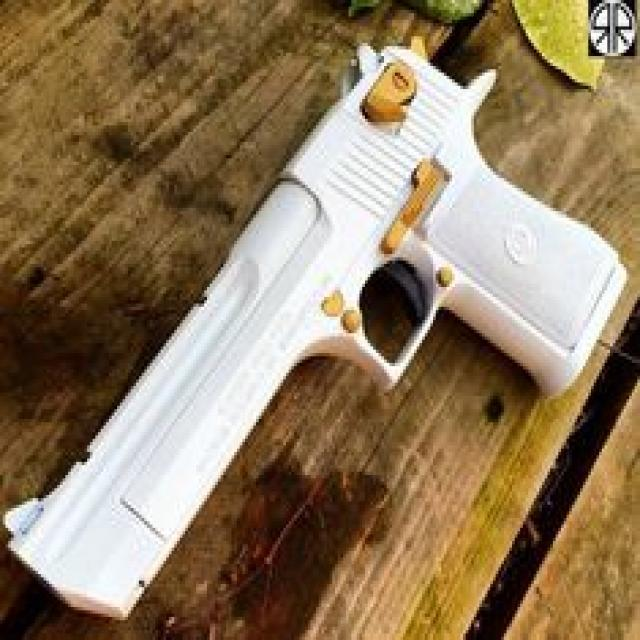semi automatic: (2, 19, 640, 623)
